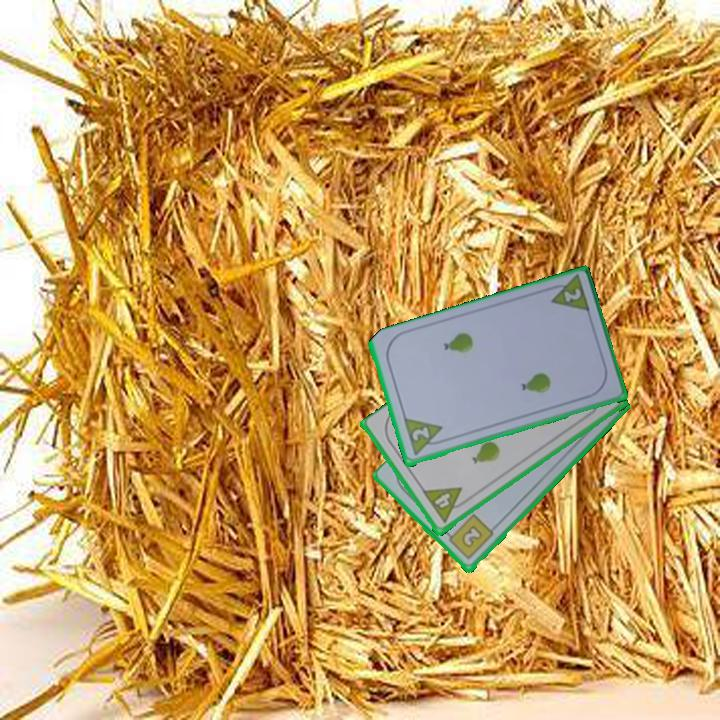2b: (442, 511, 496, 563)
2p: (543, 273, 593, 316), (408, 424, 432, 444)
4p: (419, 484, 471, 527)
